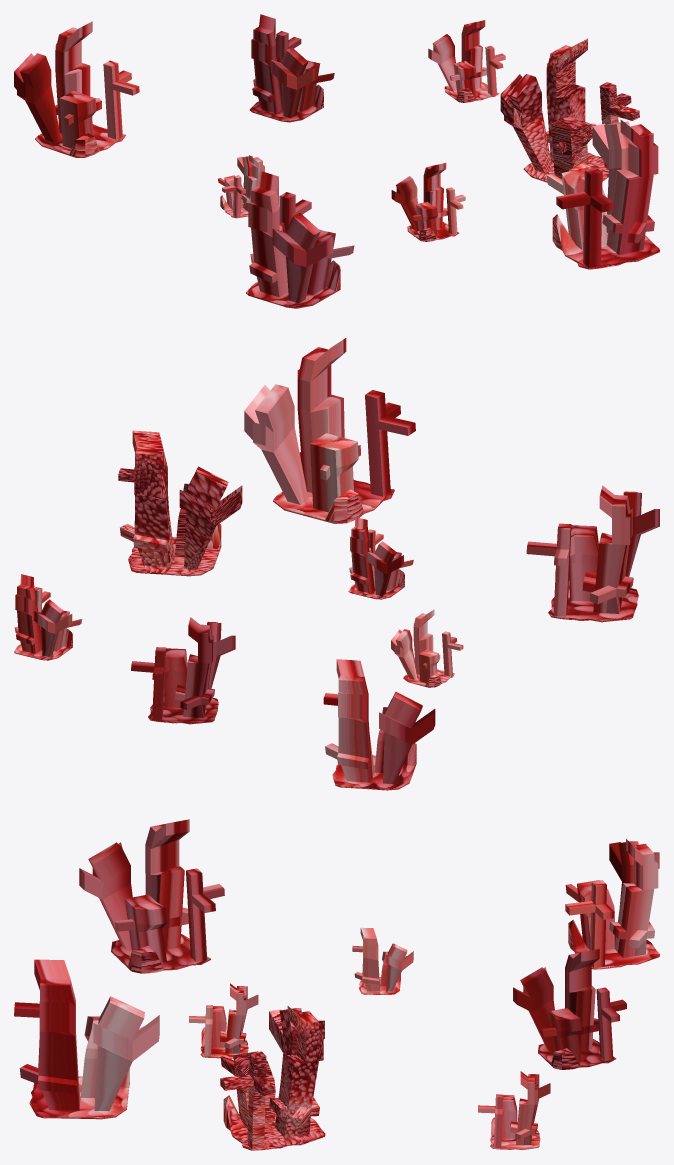
File: coral.glb
3 renders of one model, top to bottom at view 1: azimuth 30°, elevation 25°; view 2: azimuth 150°, elevation 25°; view 3: azimuth 270°, elevation 25°, orthographic. The views are drawn at different scales.
Visible parts, largest first — view 1: Cube; view 2: Cube; view 3: Cube.
Boxes of the visible parts, bbox=[...] form: Cube: bbox=[14, 14, 659, 308]; Cube: bbox=[14, 338, 659, 790]; Cube: bbox=[14, 819, 659, 1150].
Bounding box in the file's own units: 7.21 × 2.11 × 8.2.
1 material, 1 textured.
